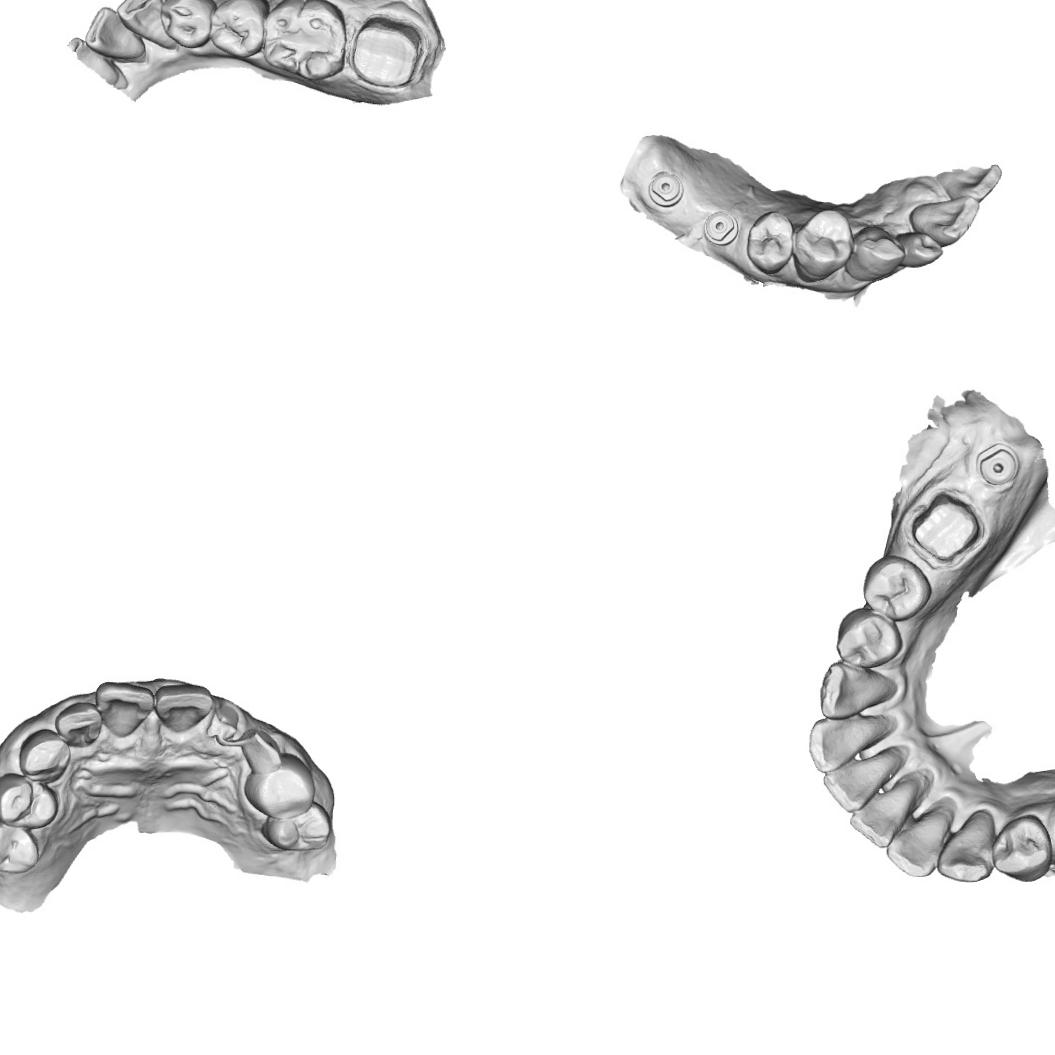canine: (938, 808, 997, 884), (818, 663, 898, 719), (844, 222, 904, 283), (16, 726, 72, 784), (114, 0, 178, 50)
crown: (350, 11, 423, 92), (908, 487, 980, 565)
implant: (975, 443, 1018, 487), (646, 170, 686, 210), (702, 210, 740, 246)
incisor: (846, 783, 914, 848), (806, 716, 878, 774), (884, 815, 945, 877), (822, 756, 889, 812), (908, 196, 981, 247), (93, 681, 156, 740), (84, 5, 146, 62), (154, 680, 215, 734), (934, 164, 1003, 202), (53, 700, 104, 748), (894, 230, 945, 270)
molar: (259, 0, 347, 81)
premolar: (243, 751, 317, 822), (791, 206, 854, 282), (992, 810, 1053, 882), (864, 554, 928, 620), (260, 798, 333, 855), (838, 612, 904, 668), (0, 770, 60, 829), (209, 0, 268, 59), (744, 209, 796, 275), (159, 0, 217, 48), (0, 816, 43, 876)
